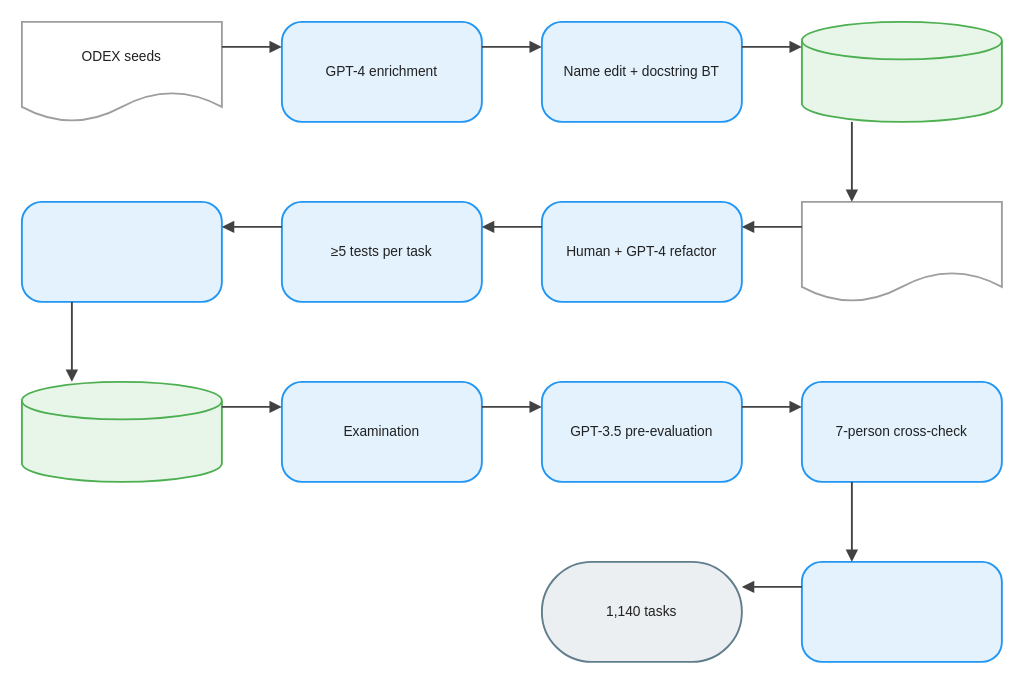
This 1025x685 diagram has some shape labels left out. The centre of each missing label's shape, as x and y in pixels:
"1,223 valid pairs" belongs at [121,431].
"13 × 100 task assignments" belongs at [901,251].
"4,718 AST-valid drafts" belongs at [901,71].
"GHCR validation" belongs at [901,611].
"Program analysis" belongs at [121,251].
